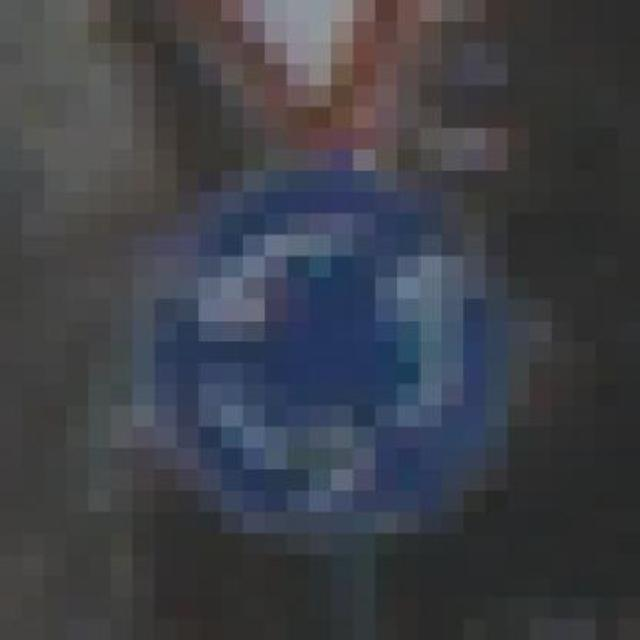Round-About: (132, 85, 596, 598)
